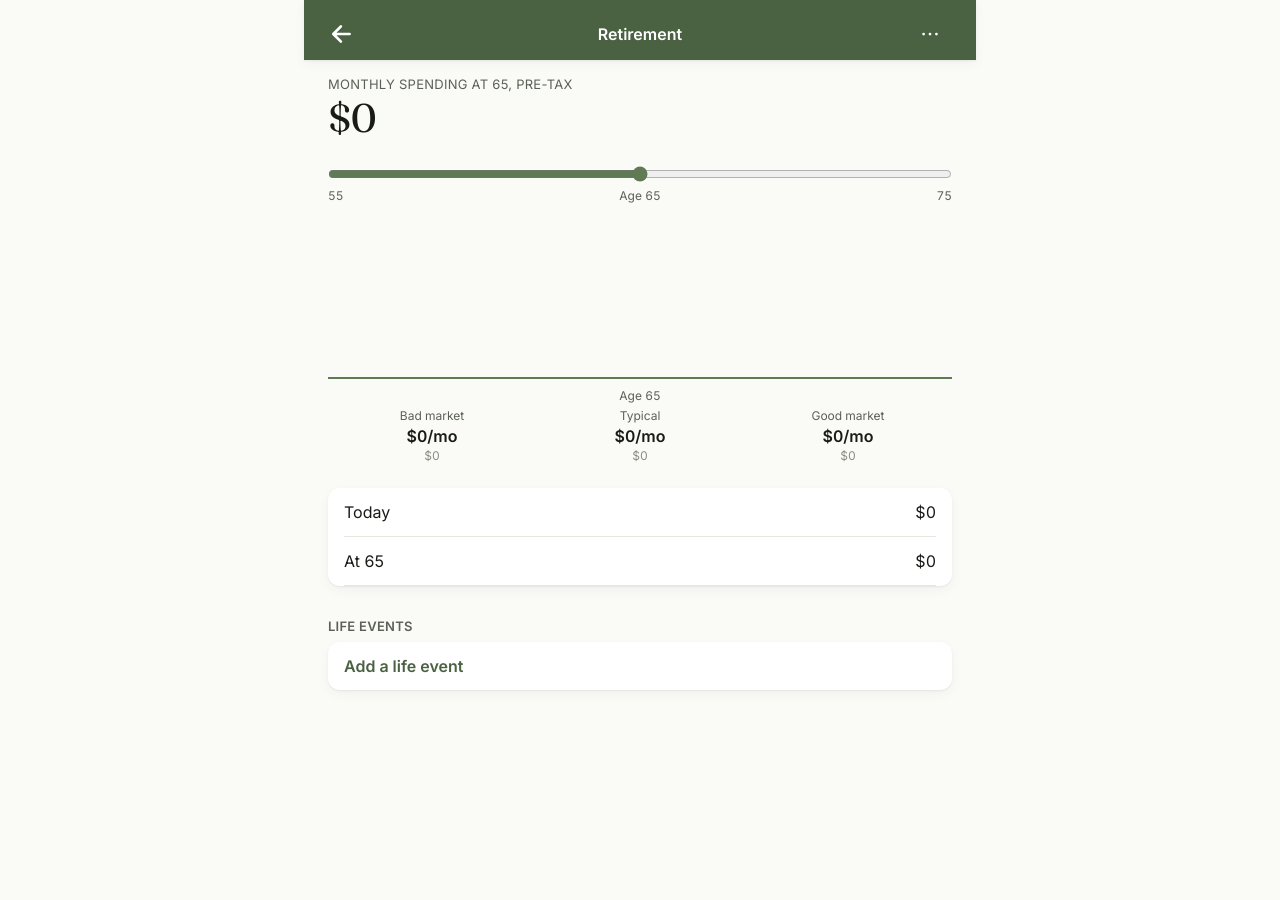
Test: Retirement settings › groups fields by who they are about
What coordinates should you click on to do the following:
click the button named "Retirement settings"
I would click on:
 (930, 34)
Its box is [908,12,952,56].
(page scrolled)
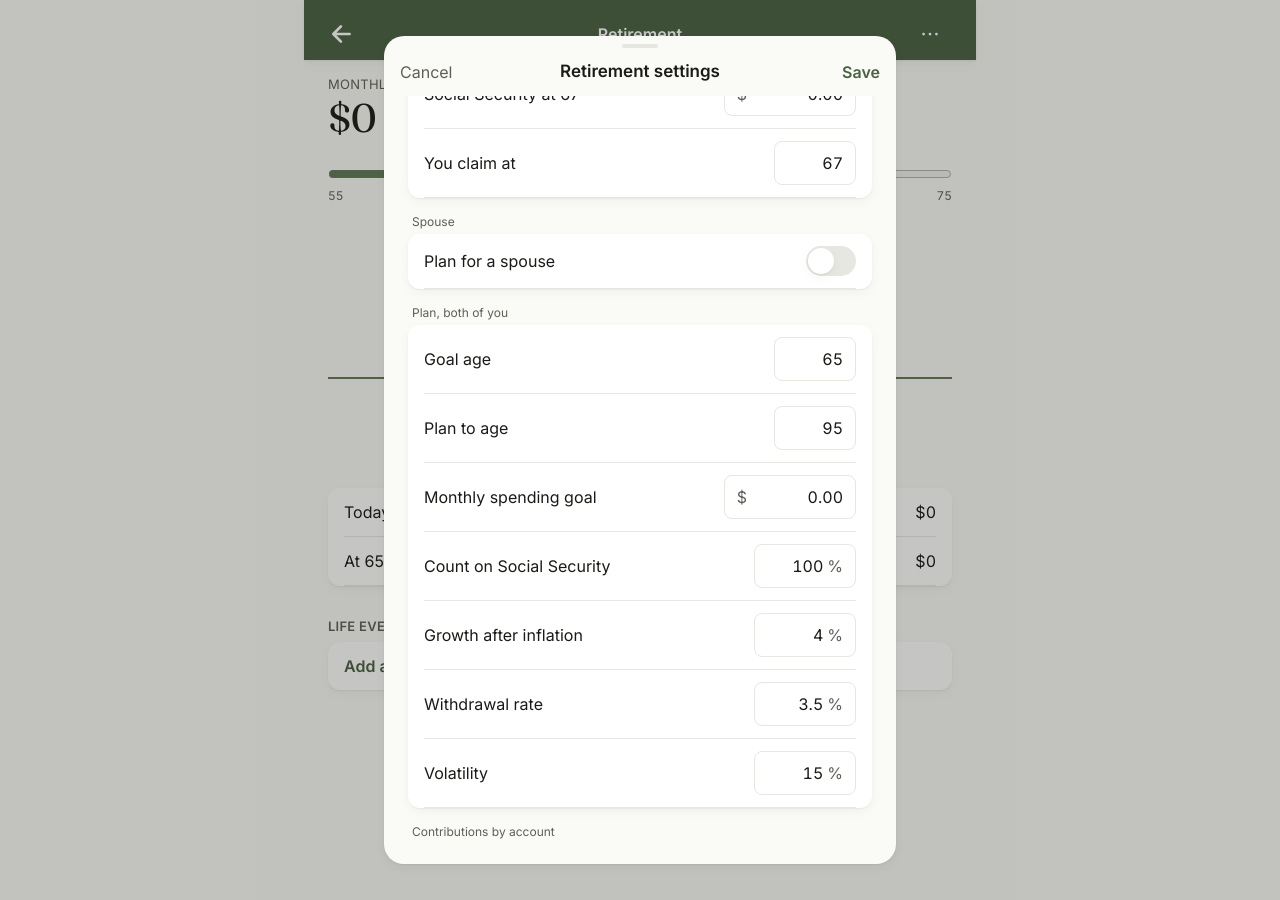
expect the heading "Spouse" is shown: met, box [412,214,455,229]
expect the heading "Plan, both of you" is shown: met, box [412,305,508,320]
expect the heading "Contributions by account" is shown: met, box [412,824,555,839]
